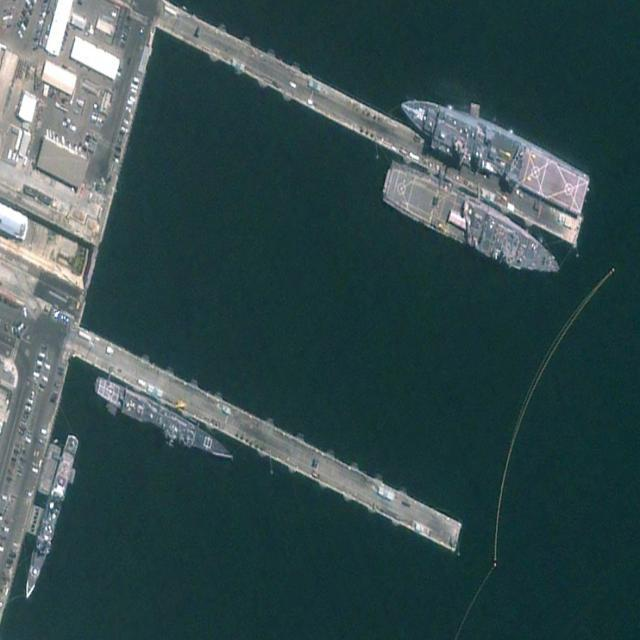Frigate: (90, 372, 239, 469)
Landing: (393, 82, 591, 222), (379, 154, 567, 294)
Other Ship: (22, 430, 80, 603)
